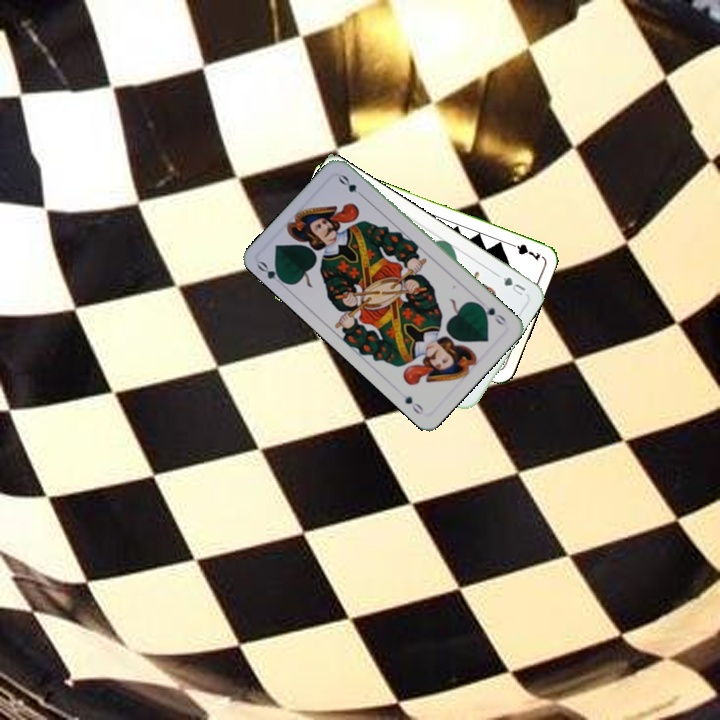G7: (504, 239, 543, 263)
GO: (253, 257, 290, 290), (474, 300, 508, 329)
GU: (493, 270, 528, 298)
